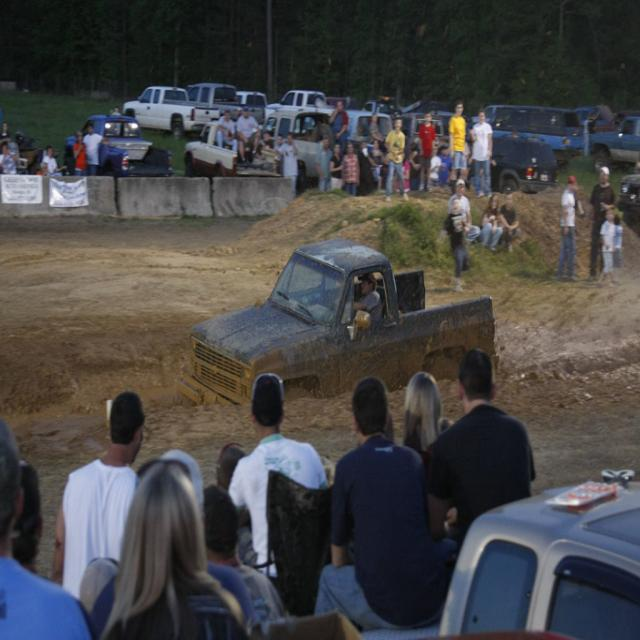car: (264, 84, 334, 127)
